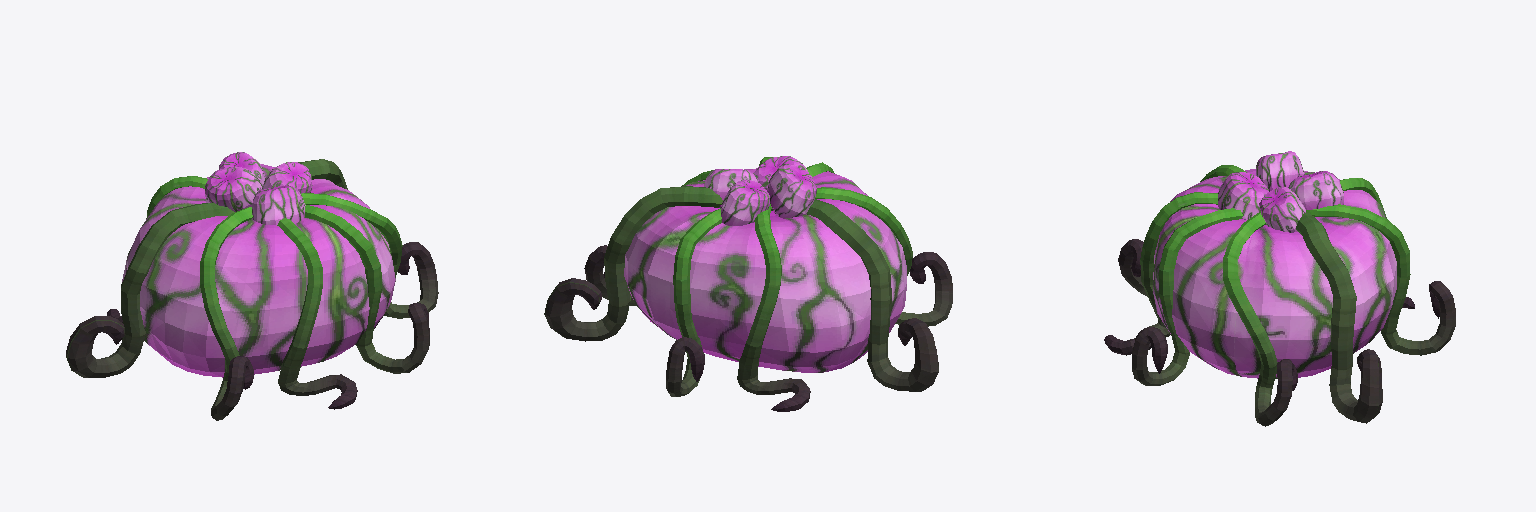
3 renders of one model, left to right at view 1: azimuth 30°, elevation 25°; view 2: azimuth 150°, elevation 25°; view 3: azimuth 270°, elevation 25°, orthographic.
Parts seen in each view (by area): view 1: alp_plant_mother_base_Untitled; view 2: alp_plant_mother_base_Untitled; view 3: alp_plant_mother_base_Untitled.
Part boxes in pixels (left/top/right/bottom): alp_plant_mother_base_Untitled: left=66, top=152, right=438, bottom=420; alp_plant_mother_base_Untitled: left=544, top=156, right=952, bottom=411; alp_plant_mother_base_Untitled: left=1104, top=151, right=1455, bottom=426.
Size of the model in its own units: 6 by 2.96 by 5.08.
1 materials, 1 textured.